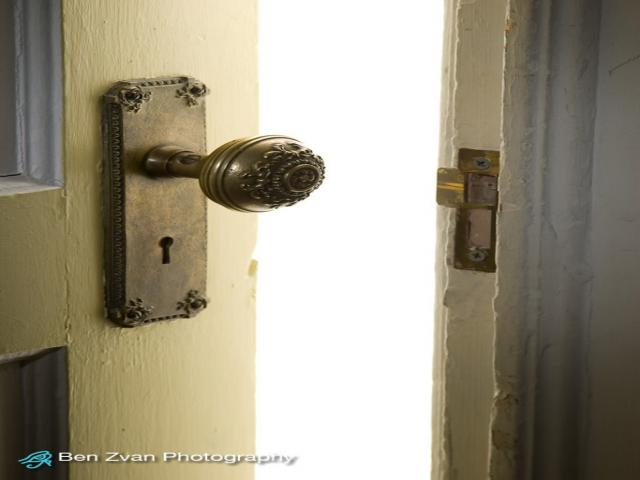Door-handle: (106, 73, 325, 328)
